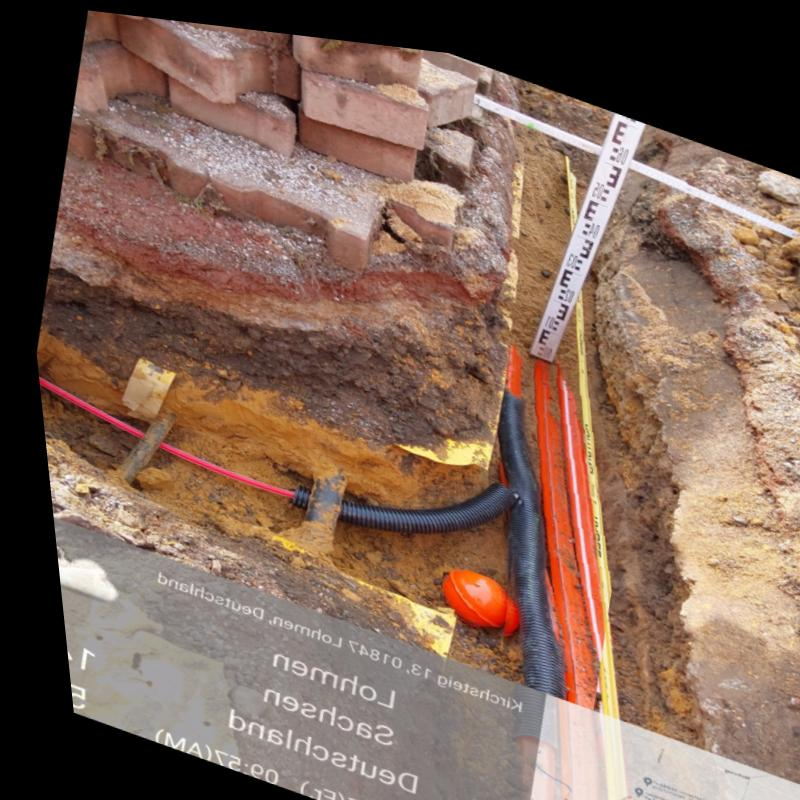Kugelmarker: (430, 561, 500, 623)
Orang-Speednetrohrchen: (524, 350, 590, 697)
